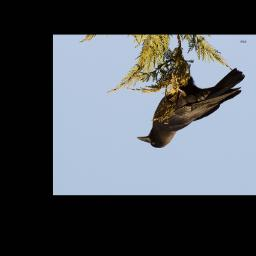Crow: (135, 64, 245, 151)
